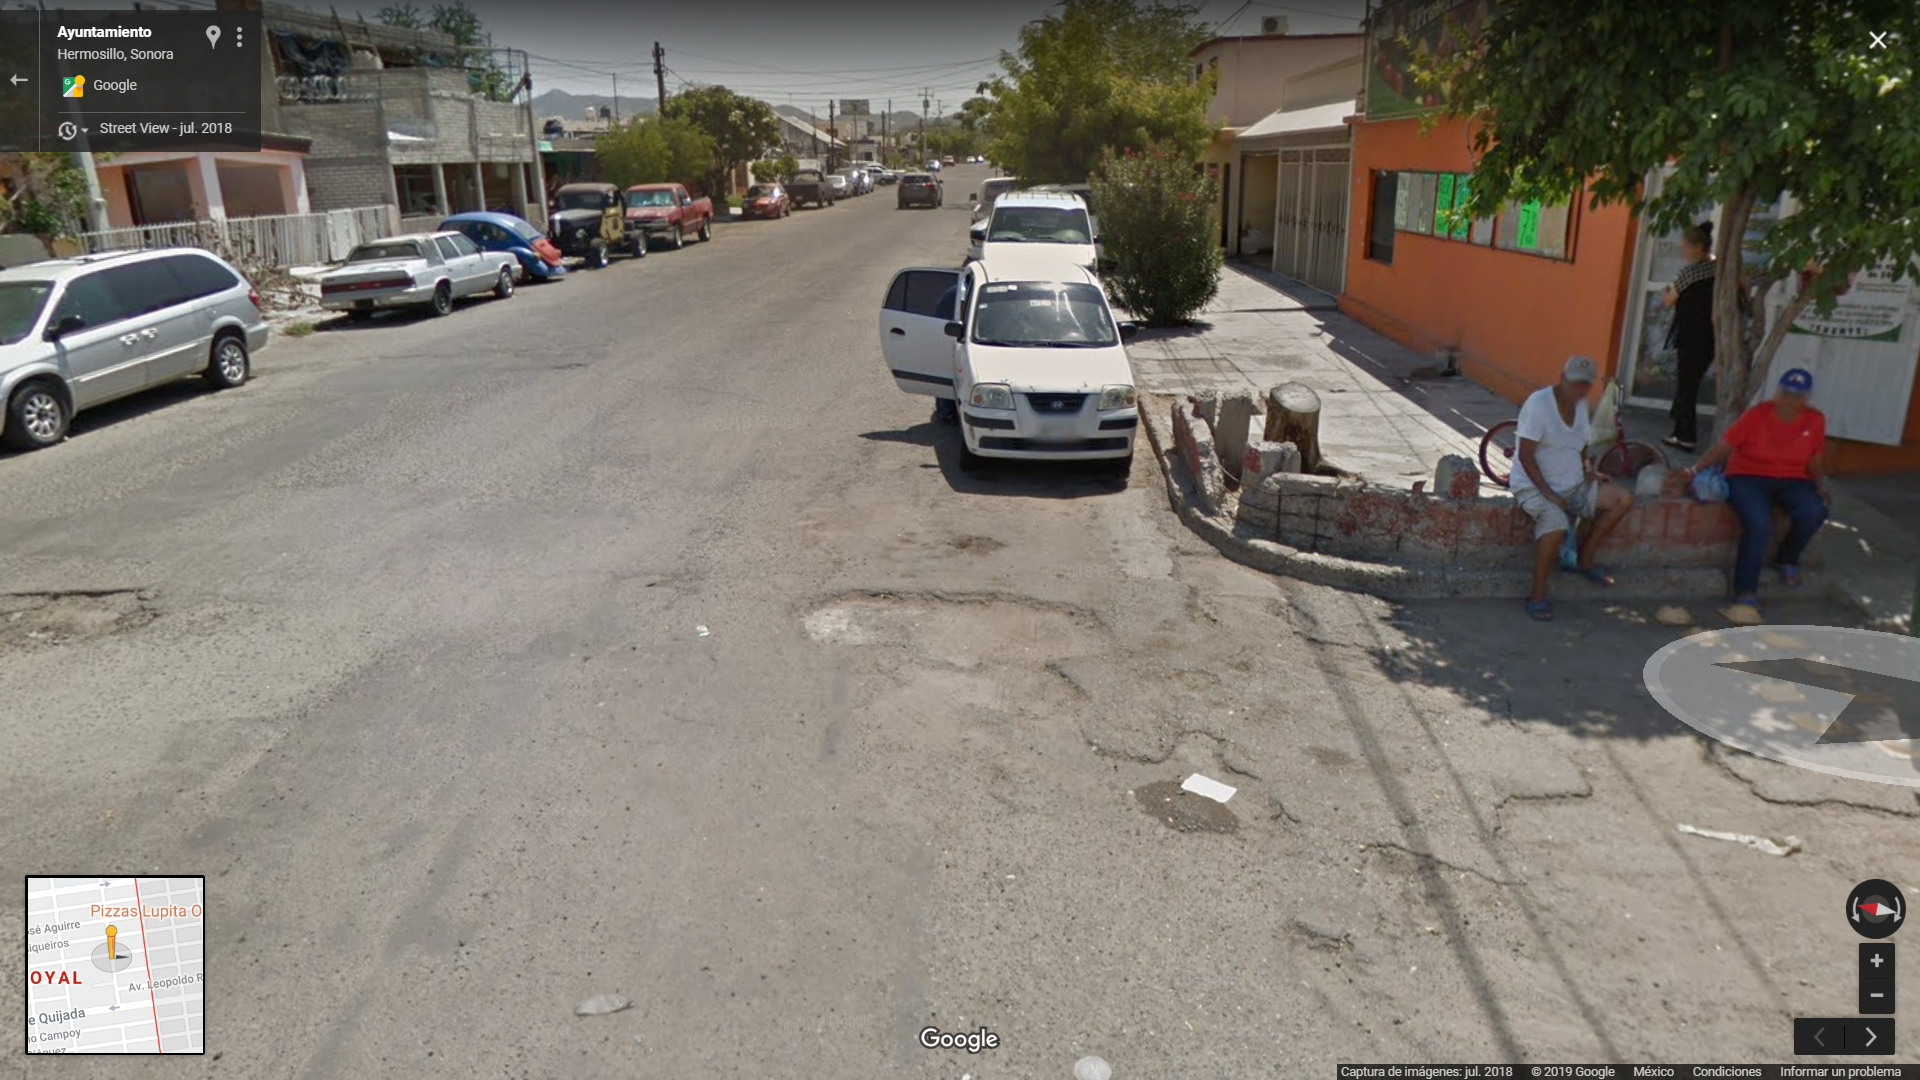pothole: (781, 555, 1125, 705), (1075, 727, 1294, 836), (1, 549, 179, 661)
